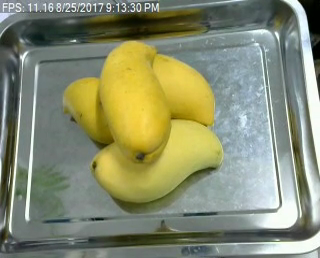Mango: (86, 112, 225, 204), (97, 38, 175, 165), (145, 52, 219, 126), (64, 75, 129, 147)
